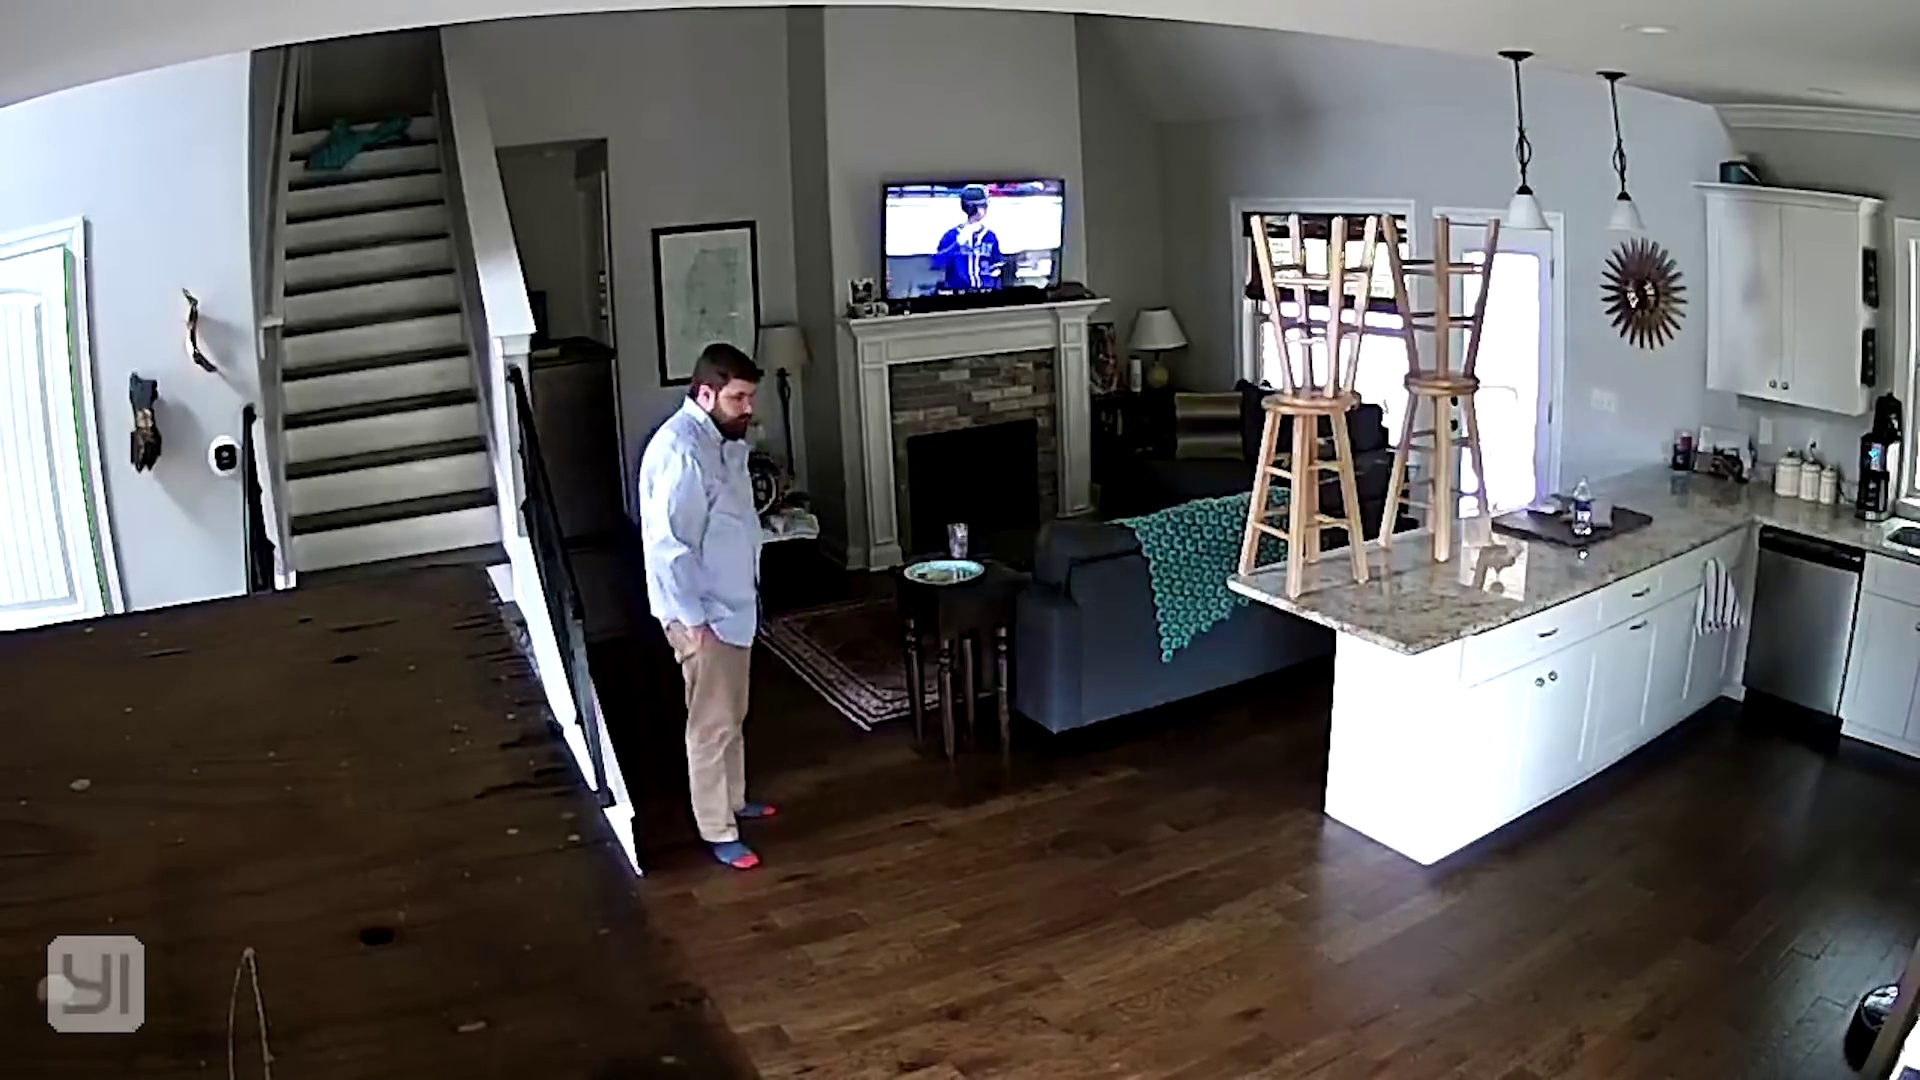face: (717, 375, 759, 432)
